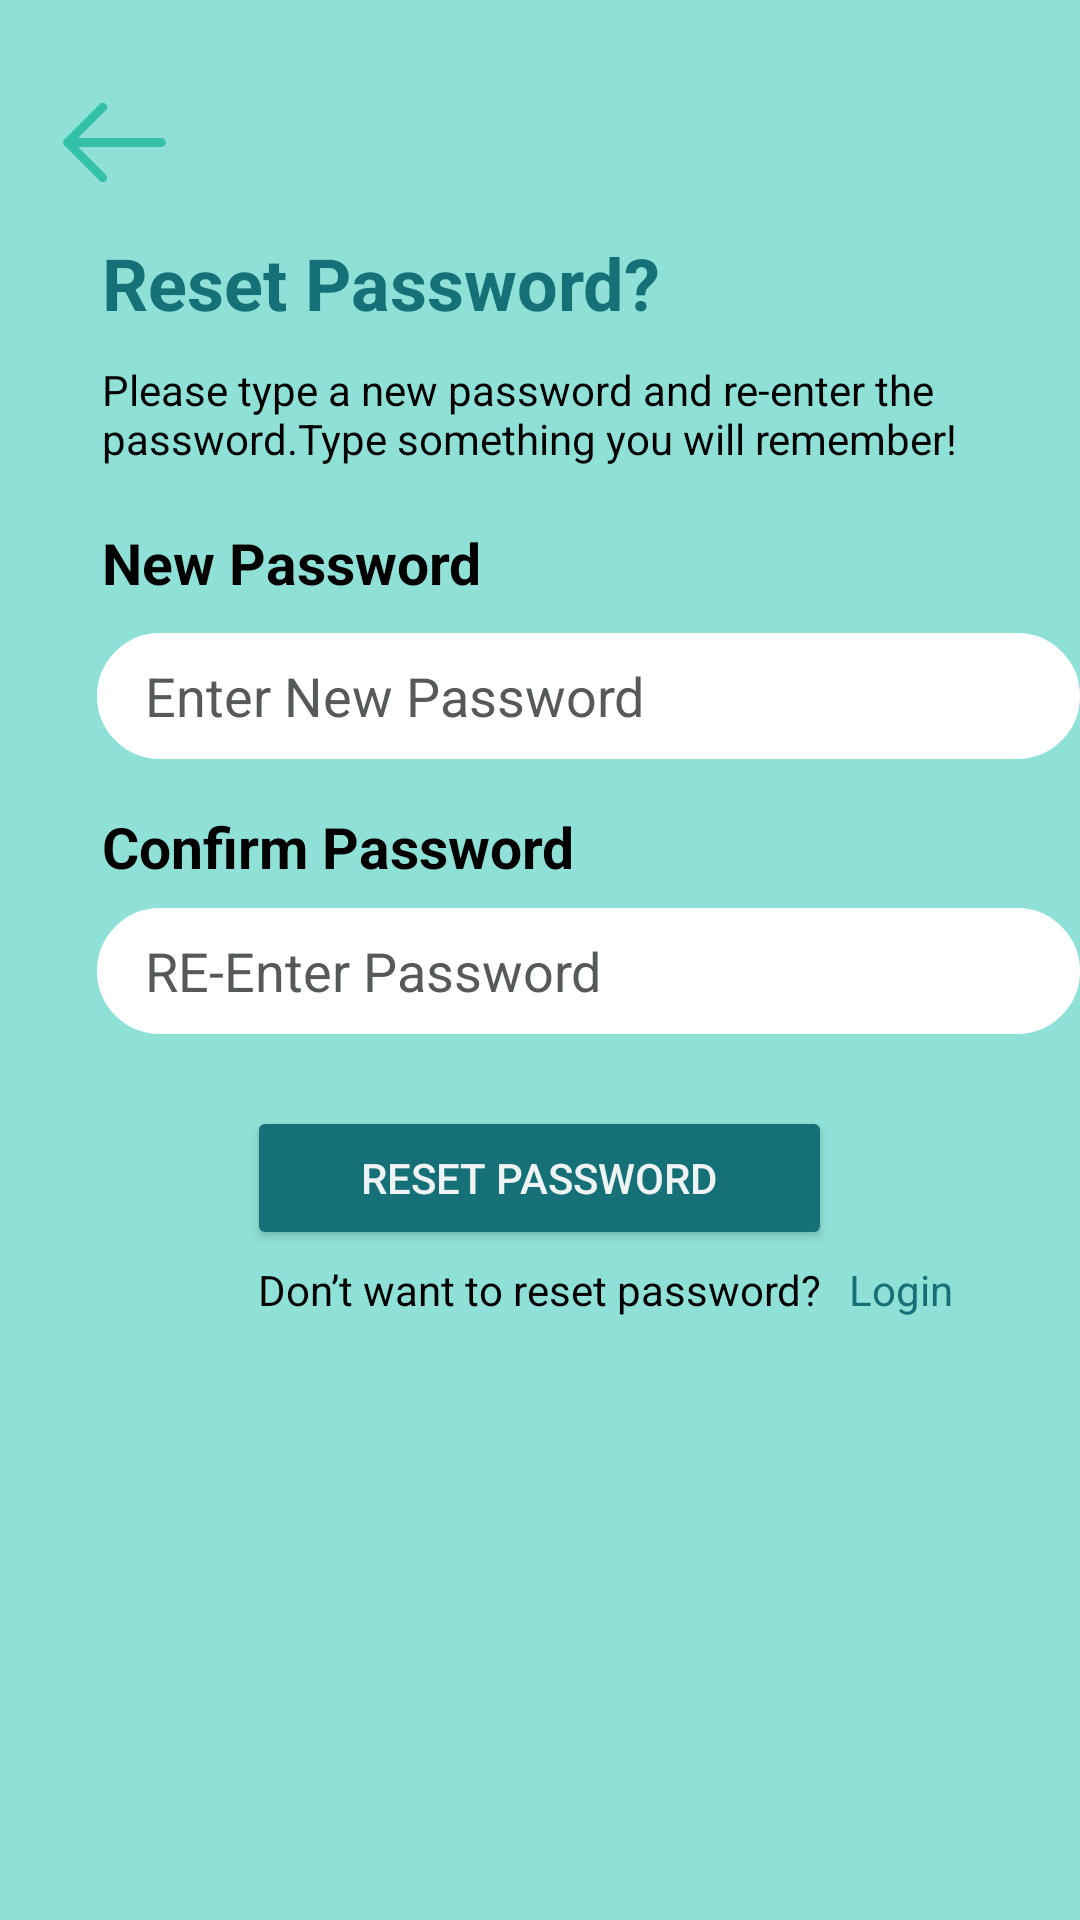

Where to tap for icons on this 1080w x 1920h app screen, as point (x, y):
arrow left: point (114, 142)
